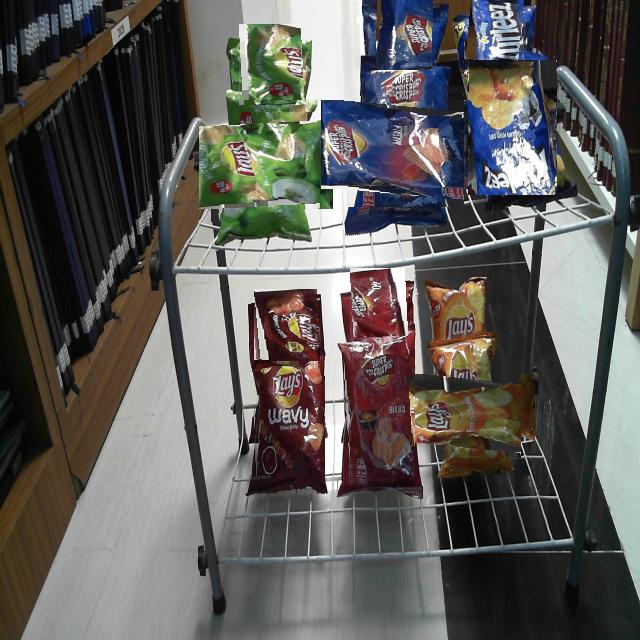Plastic: (338, 82, 464, 207), (468, 60, 557, 196), (211, 112, 321, 222), (342, 337, 415, 487), (251, 360, 325, 494), (421, 359, 521, 458), (234, 28, 306, 100), (250, 292, 320, 362), (370, 0, 440, 63), (345, 273, 410, 338), (464, 0, 530, 64), (426, 277, 487, 339)
